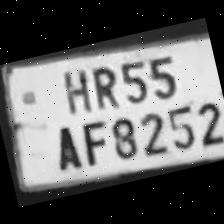2: (131, 105, 169, 158), (188, 93, 224, 148)
5: (140, 49, 182, 101), (161, 100, 199, 152), (113, 54, 150, 104)
8: (102, 108, 140, 161)
A: (43, 118, 84, 174)
F: (73, 115, 111, 166)
H: (52, 62, 94, 116)
R: (83, 59, 122, 110)
